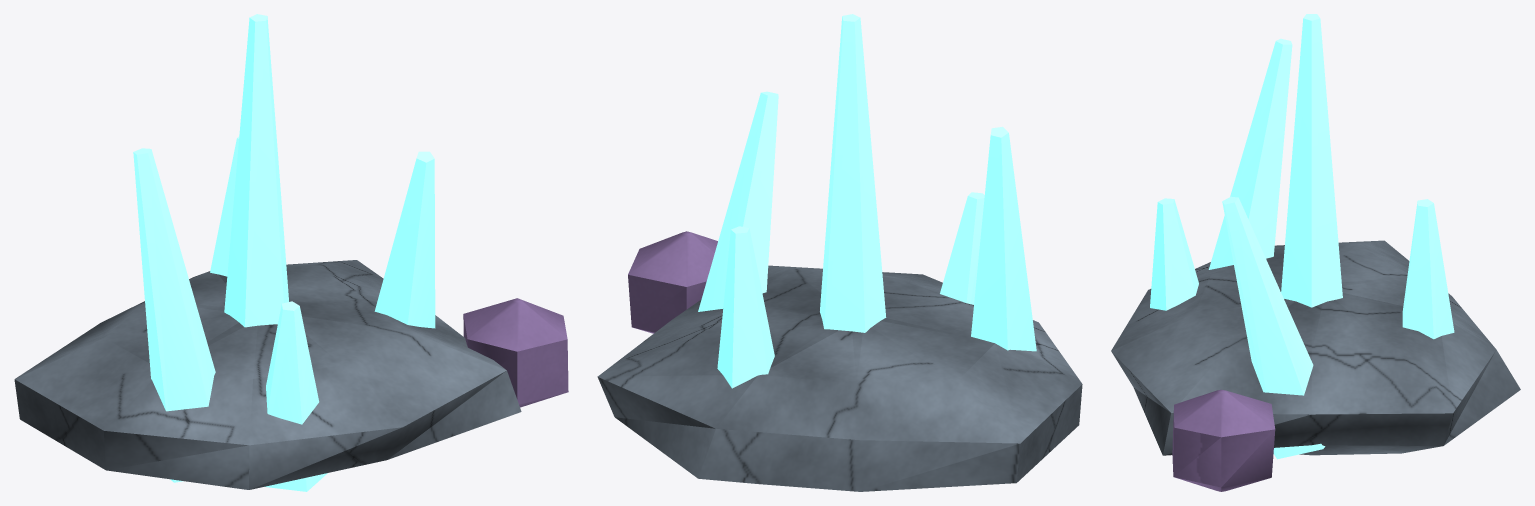
File: mineral_accent.glb
3 renders of one model, left to right at view 1: azimuth 30°, elevation 25°; view 2: azimuth 150°, elevation 25°; view 3: azimuth 270°, elevation 25°, orthographic. The views are drawn at different scales.
Parts seen in each view (by area): view 1: DL015_MineralAccent_stone_blue, DL015_MineralAccent_emissive_teal, DL015_MineralAccent_coral_violet; view 2: DL015_MineralAccent_stone_blue, DL015_MineralAccent_emissive_teal, DL015_MineralAccent_coral_violet; view 3: DL015_MineralAccent_stone_blue, DL015_MineralAccent_emissive_teal, DL015_MineralAccent_coral_violet.
Boxes of the visible parts, bbox=[...] form: DL015_MineralAccent_stone_blue: bbox=[14, 260, 521, 489]; DL015_MineralAccent_emissive_teal: bbox=[133, 14, 435, 491]; DL015_MineralAccent_coral_violet: bbox=[463, 298, 568, 407]; DL015_MineralAccent_stone_blue: bbox=[597, 265, 1082, 491]; DL015_MineralAccent_emissive_teal: bbox=[698, 14, 1036, 388]; DL015_MineralAccent_coral_violet: bbox=[628, 231, 717, 333]; DL015_MineralAccent_stone_blue: bbox=[1111, 240, 1520, 455]; DL015_MineralAccent_emissive_teal: bbox=[1150, 14, 1454, 459]; DL015_MineralAccent_coral_violet: bbox=[1172, 389, 1275, 491].
Bounding box in the file's own units: 1.11 × 0.97 × 0.906.
Materials: 3 (2 with a texture image).
